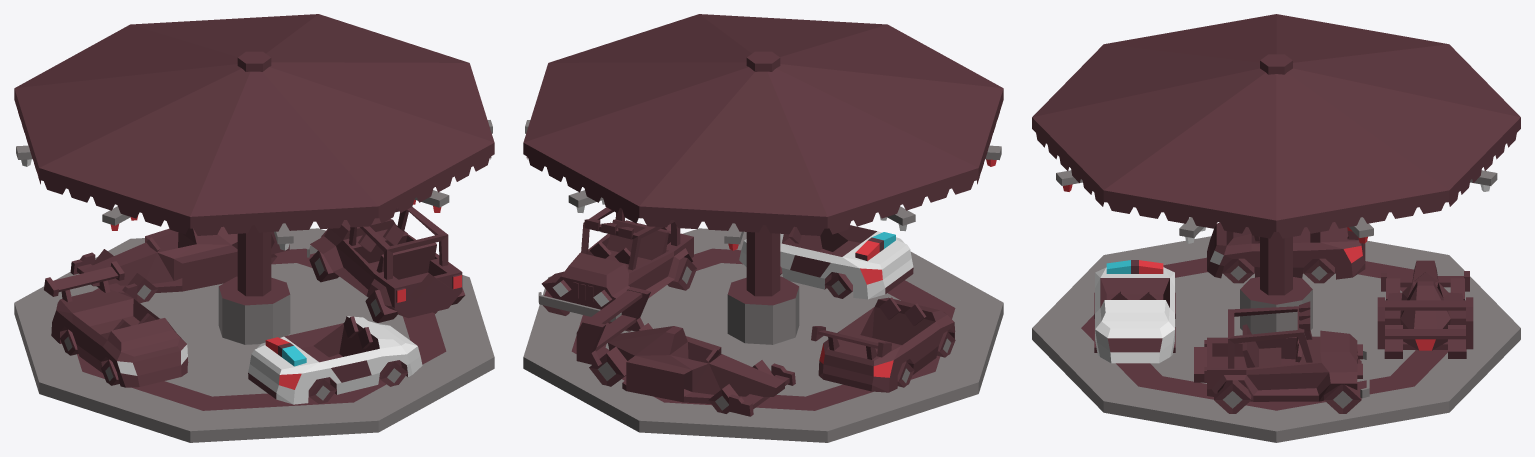
Rendered from carousel-coaster.fbx.
3 renders of one model, left to right at view 1: azimuth 30°, elevation 25°; view 2: azimuth 150°, elevation 25°; view 3: azimuth 270°, elevation 25°, orthographic.
Visible parts, largest first — view 1: carousel-coaster-base, carousel-coaster-cars; view 2: carousel-coaster-base, carousel-coaster-cars; view 3: carousel-coaster-base, carousel-coaster-cars.
Boxes of the visible parts, <box> form: carousel-coaster-base: <box>14,14,494,296</box>; carousel-coaster-cars: <box>14,120,494,442</box>; carousel-coaster-base: <box>523,14,1003,296</box>; carousel-coaster-cars: <box>523,120,1003,442</box>; carousel-coaster-base: <box>1032,14,1520,295</box>; carousel-coaster-cars: <box>1032,170,1520,442</box>.
Bounding box in the file's own units: 5 × 3.42 × 5.
